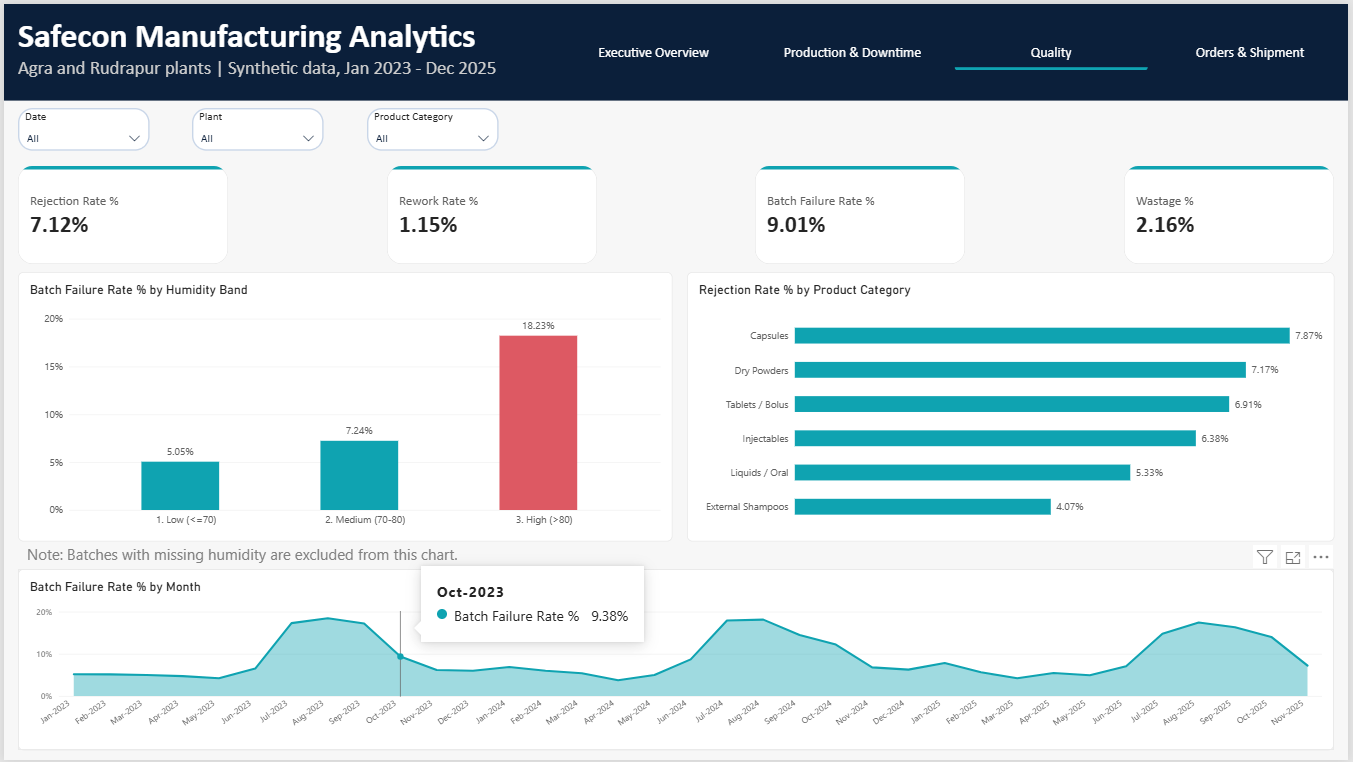

Layout of this report page (visuals, bound fields, positions):
{"tool":"powerbi","page":{"name":"Quality","canvas":[1920,1080],"ordinal":2},"visuals":[{"type":"cardVisual","fields":{"Data":["_measure.Rejection Rate %"]},"box":[20,231.7,300,140],"z":0},{"type":"cardVisual","fields":{"Data":["_measure.Batch Failure Rate %"]},"box":[1073.3,231.7,300,140],"z":1000},{"type":"cardVisual","fields":{"Data":["_measure.Wastage %"]},"box":[1600,231.7,300,140],"z":2000},{"type":"clusteredColumnChart","fields":{"Category":["fact_production.Humidity Band"],"Y":["_measure.Batch Failure Rate %"]},"box":[20,383.3,935,385],"z":3000},{"type":"clusteredBarChart","title":"Rejection Rate % by Product Category","fields":{"Category":["dim_product.Product_Category"],"Y":["_measure.Rejection Rate %"]},"box":[975,383.3,925,385],"z":4000},{"type":"lineChart","title":"Batch Failure Rate % by Month","fields":{"Category":["dim_date.Month_Year"],"Y":["_measure.Batch Failure Rate %"]},"box":[20,807.1,1880,258.6],"z":5000},{"type":"shape","box":[0,0,1920,138.3],"z":6000},{"type":"textbox","box":[20,15,770,133.3],"z":7000},{"type":"pageNavigator","box":[790,45,1130,50],"z":8000},{"type":"slicer","fields":{"Values":["dim_date.Year"]},"box":[20,148.8,187.7,61],"z":9000},{"type":"slicer","fields":{"Values":["dim_plant.Plant"]},"box":[269.2,148.3,187.7,61],"z":10000},{"type":"slicer","fields":{"Values":["dim_product.Product_Category"]},"box":[518.5,148.3,187.7,61],"z":11000},{"type":"cardVisual","fields":{"Data":["_measure.Rework Rate %"]},"box":[546.7,231.7,300,140],"z":12000},{"type":"textbox","box":[33.3,771,793.3,40],"z":13000}]}

Visuals, with their boxes in screenshot pixels (x1, y1, x2, y2), scaled from the page's 1920x1080 canvas onto the 1353x762 screenshot:
cardVisual - _measure.Rejection Rate %: pyautogui.locateOnScreen(14, 163, 226, 262)
cardVisual - _measure.Batch Failure Rate %: pyautogui.locateOnScreen(756, 163, 968, 262)
cardVisual - _measure.Wastage %: pyautogui.locateOnScreen(1128, 163, 1339, 262)
clusteredColumnChart - fact_production.Humidity Band x _measure.Batch Failure Rate %: pyautogui.locateOnScreen(14, 270, 673, 542)
"Rejection Rate % by Product Category" clusteredBarChart: pyautogui.locateOnScreen(687, 270, 1339, 542)
"Batch Failure Rate % by Month" lineChart: pyautogui.locateOnScreen(14, 569, 1339, 752)
shape: pyautogui.locateOnScreen(0, 0, 1352, 98)
textbox: pyautogui.locateOnScreen(14, 11, 557, 105)
pageNavigator: pyautogui.locateOnScreen(557, 32, 1352, 67)
slicer - dim_date.Year: pyautogui.locateOnScreen(14, 105, 146, 148)
slicer - dim_plant.Plant: pyautogui.locateOnScreen(190, 105, 322, 148)
slicer - dim_product.Product_Category: pyautogui.locateOnScreen(365, 105, 498, 148)
cardVisual - _measure.Rework Rate %: pyautogui.locateOnScreen(385, 163, 597, 262)
textbox: pyautogui.locateOnScreen(23, 544, 582, 572)
